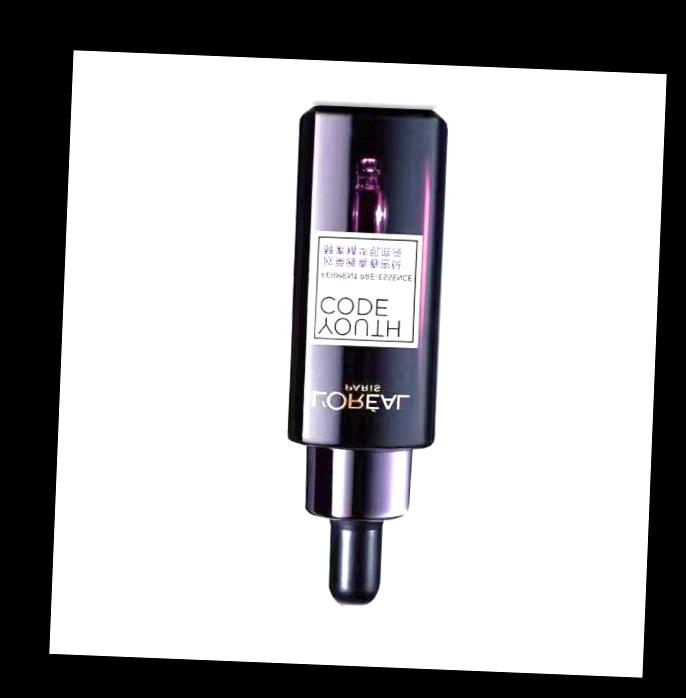cosmetic: (282, 105, 445, 608)
